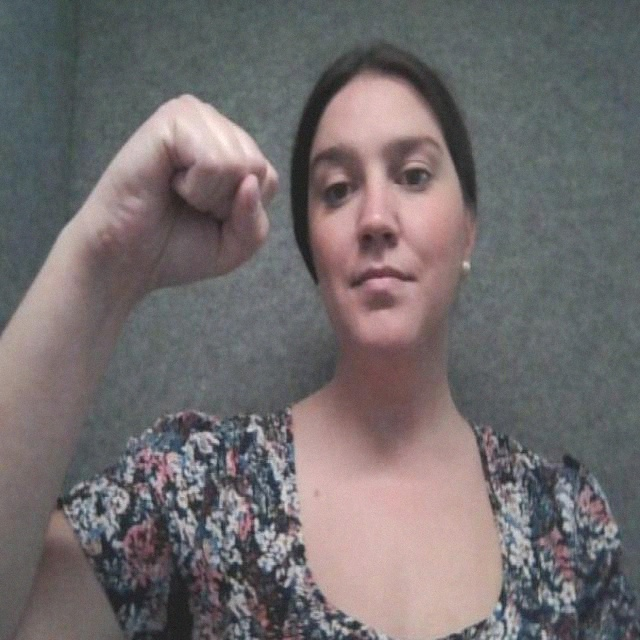Rock: (75, 85, 291, 304)
